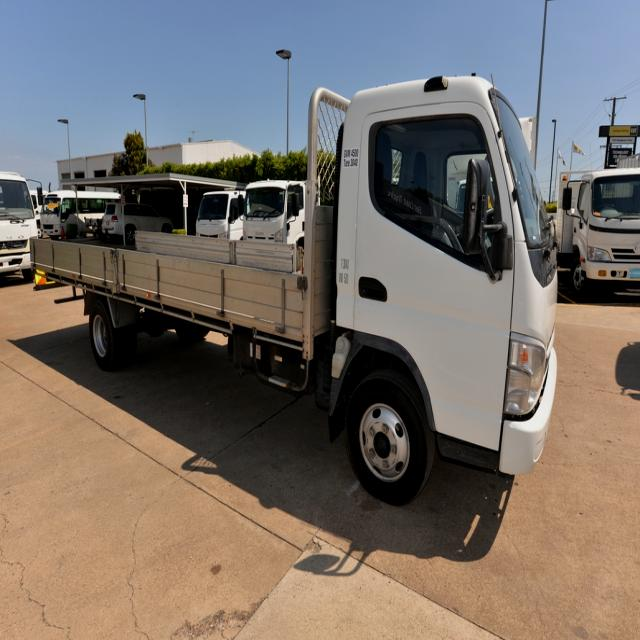truck: (29, 72, 559, 507)
